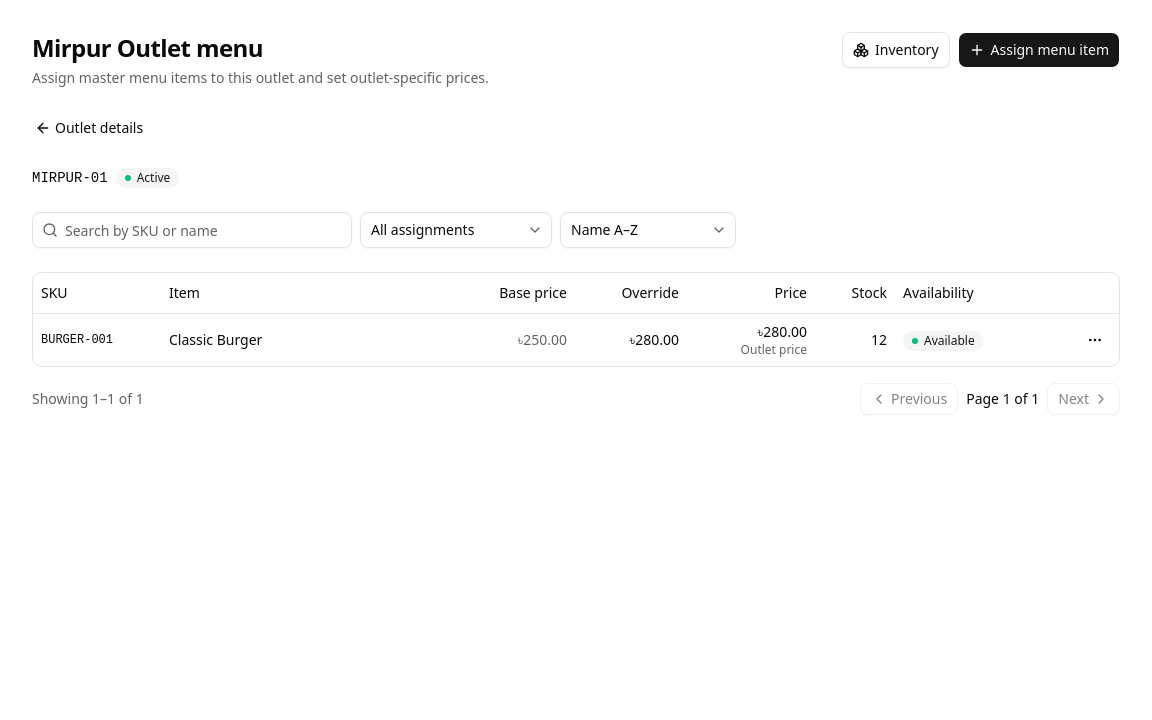
Test: Price overrides and assignment status › validates custom prices as exact decimals
The image size is (1152, 720).
Click the button named "Actions for Classic Burger": (1095, 340) [1079,324,1111,356]
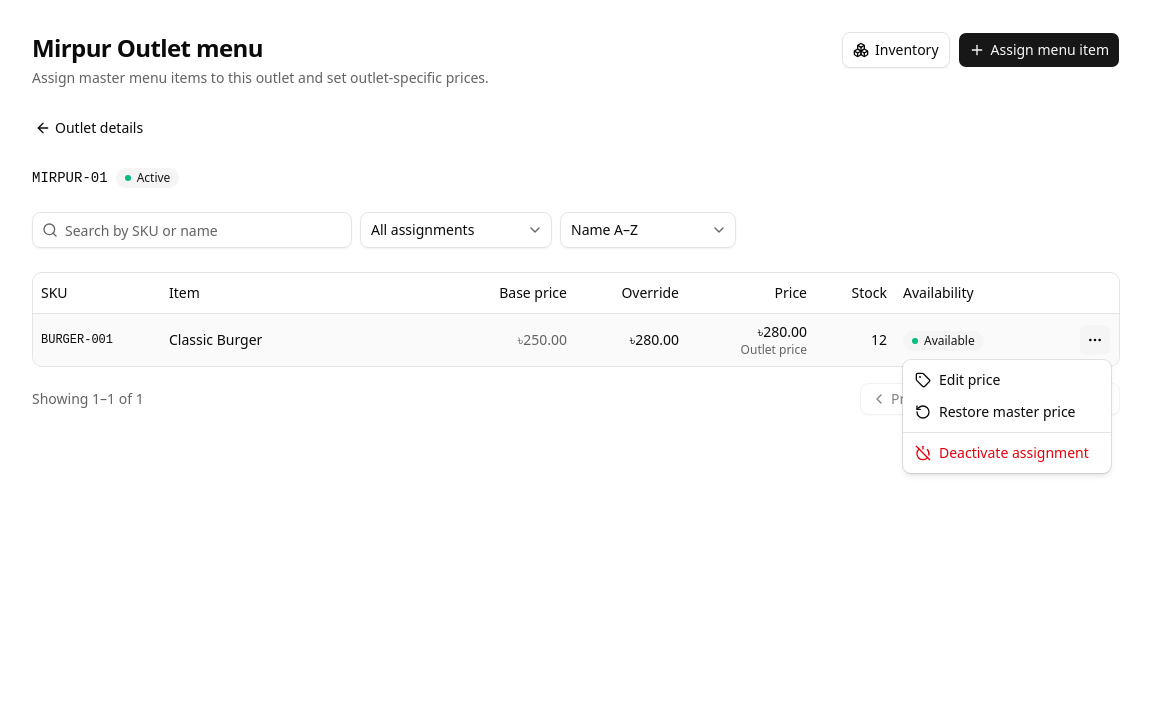
Click the menu item "Edit price": (958, 380) [915,370,1000,389]
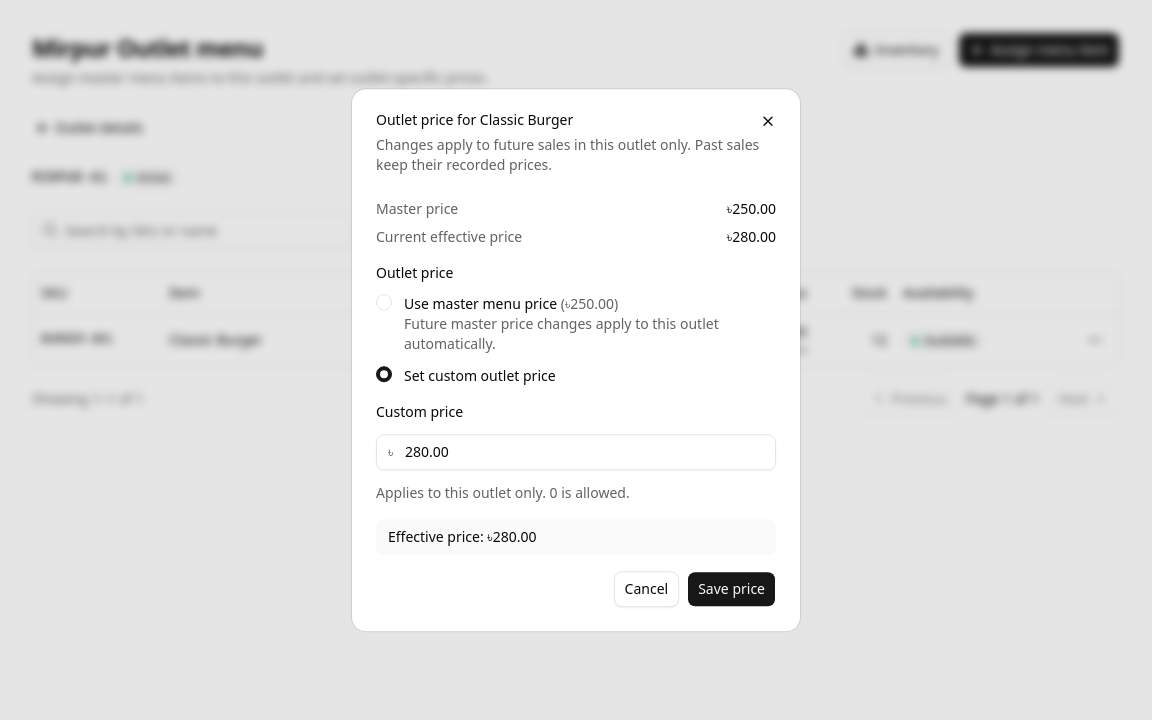
Check: the field labelled "Custom price" holds "280.00"
Replace the text in the field labelled "Custom price" with "1.234": (576, 452) [376,434,776,470]
Click the button "Save price": (732, 589) [687,571,776,607]
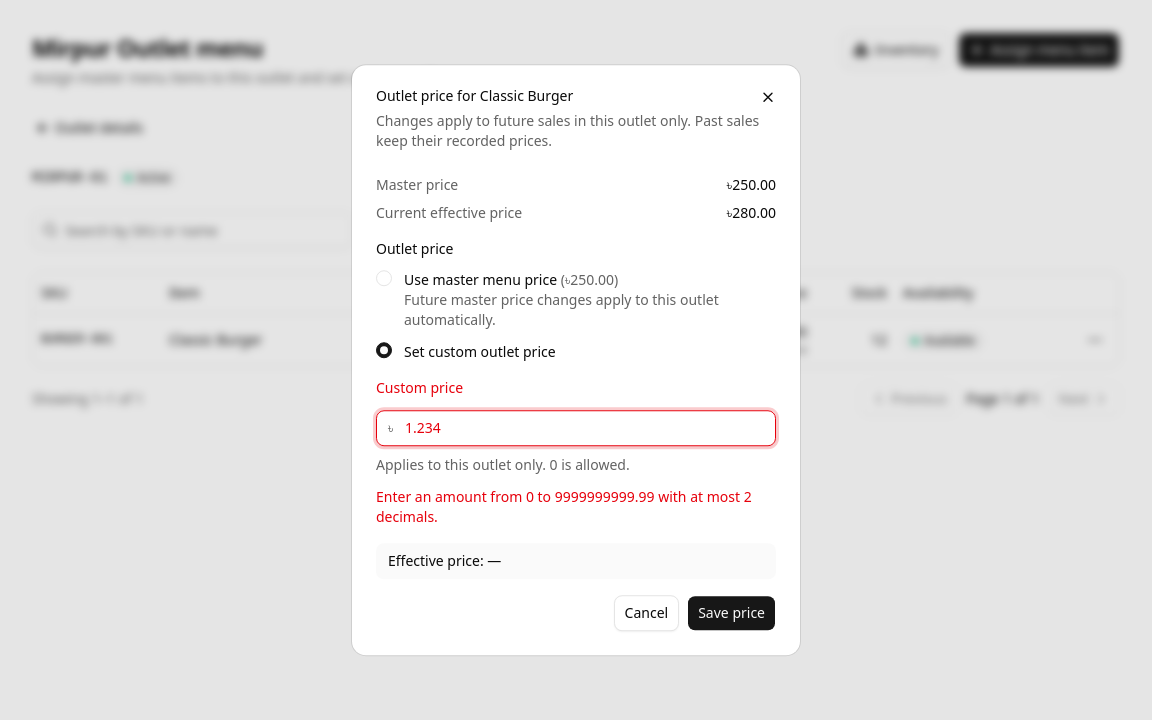
Check: the text "Enter an amount from 0 to 9999999999.99 with at most 2 decimals." is shown, box [376,487,776,527]
Clear the field labelled "Custom price": (576, 428) [376,410,776,446]
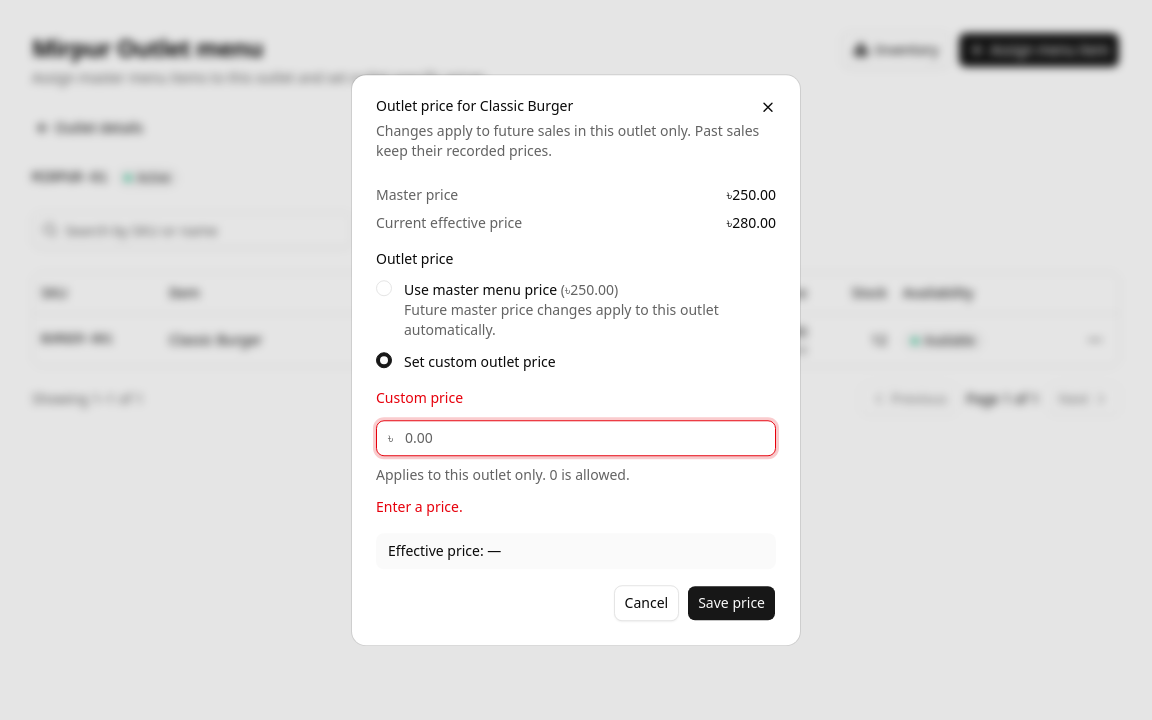
In the field labelled "Custom price": (576, 438) [376,420,776,456], type "300.5"
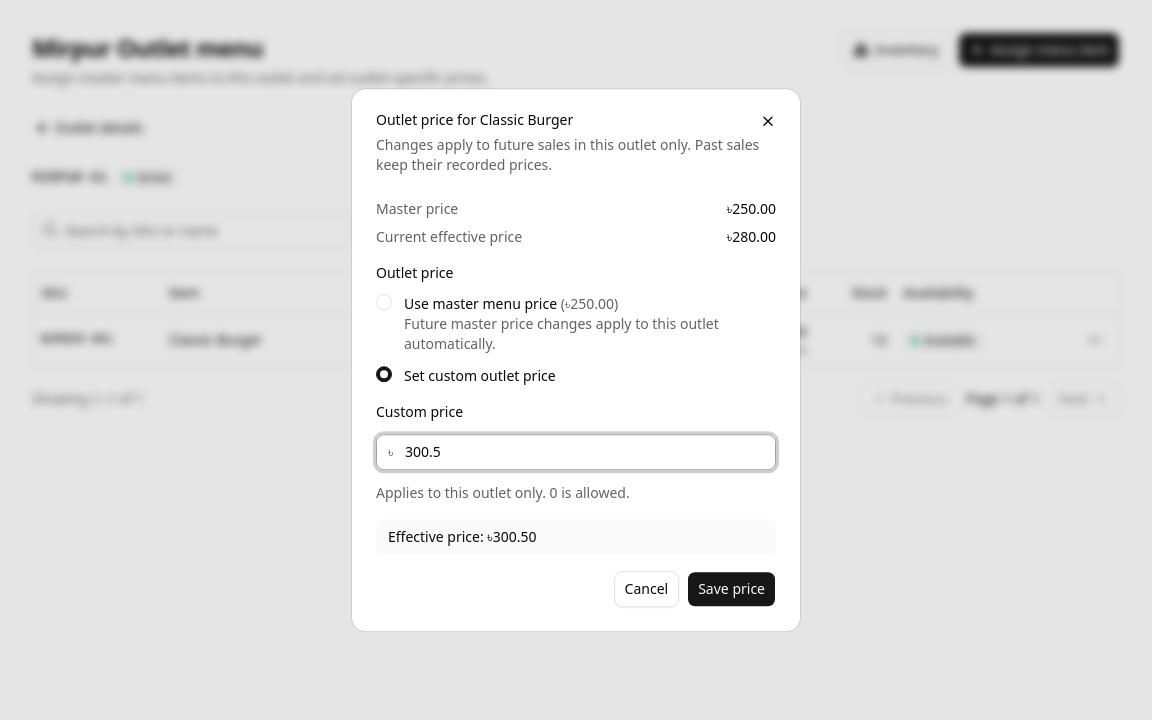
Click the button "Save price": (732, 589) [687,571,776,607]
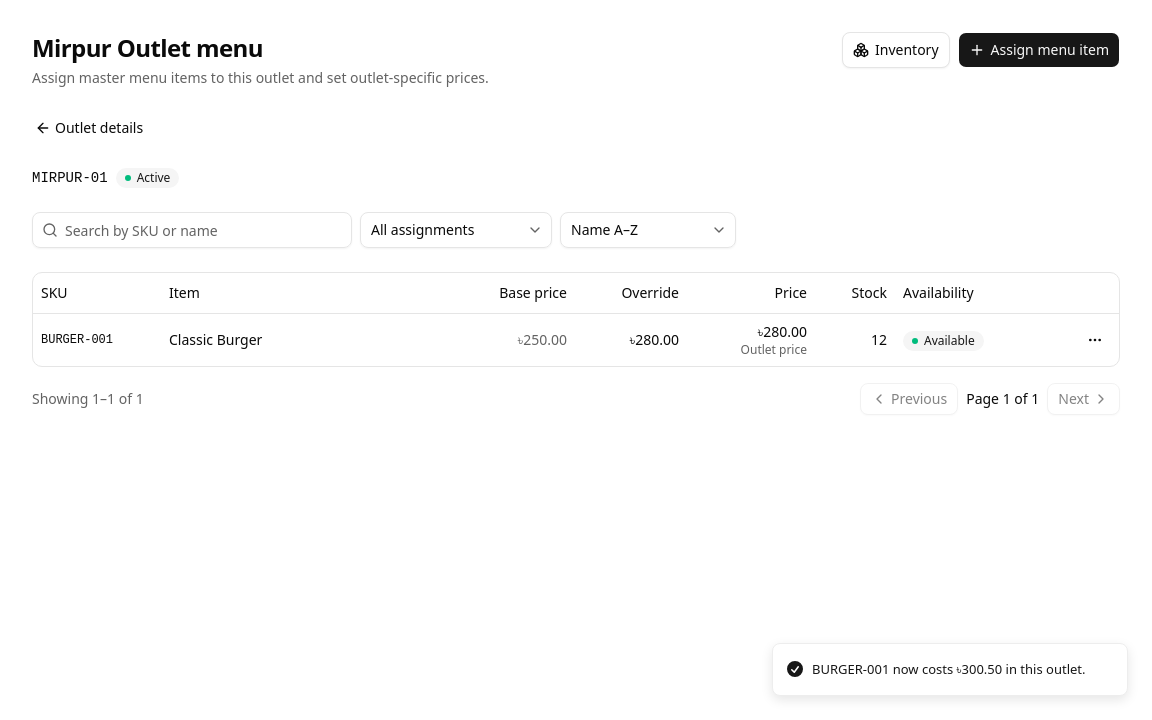
Check: the text "BURGER-001 now costs ৳300.50 in this outlet." is shown, box [812,660,1086,679]
